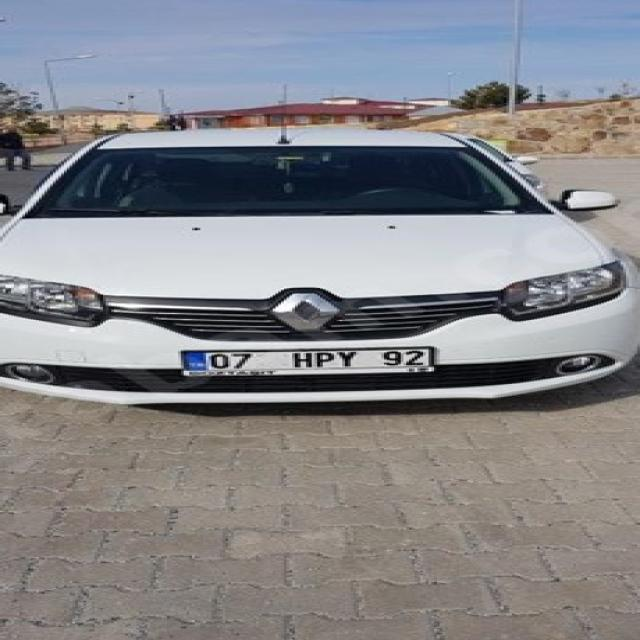license_plate: (182, 347, 436, 372)
